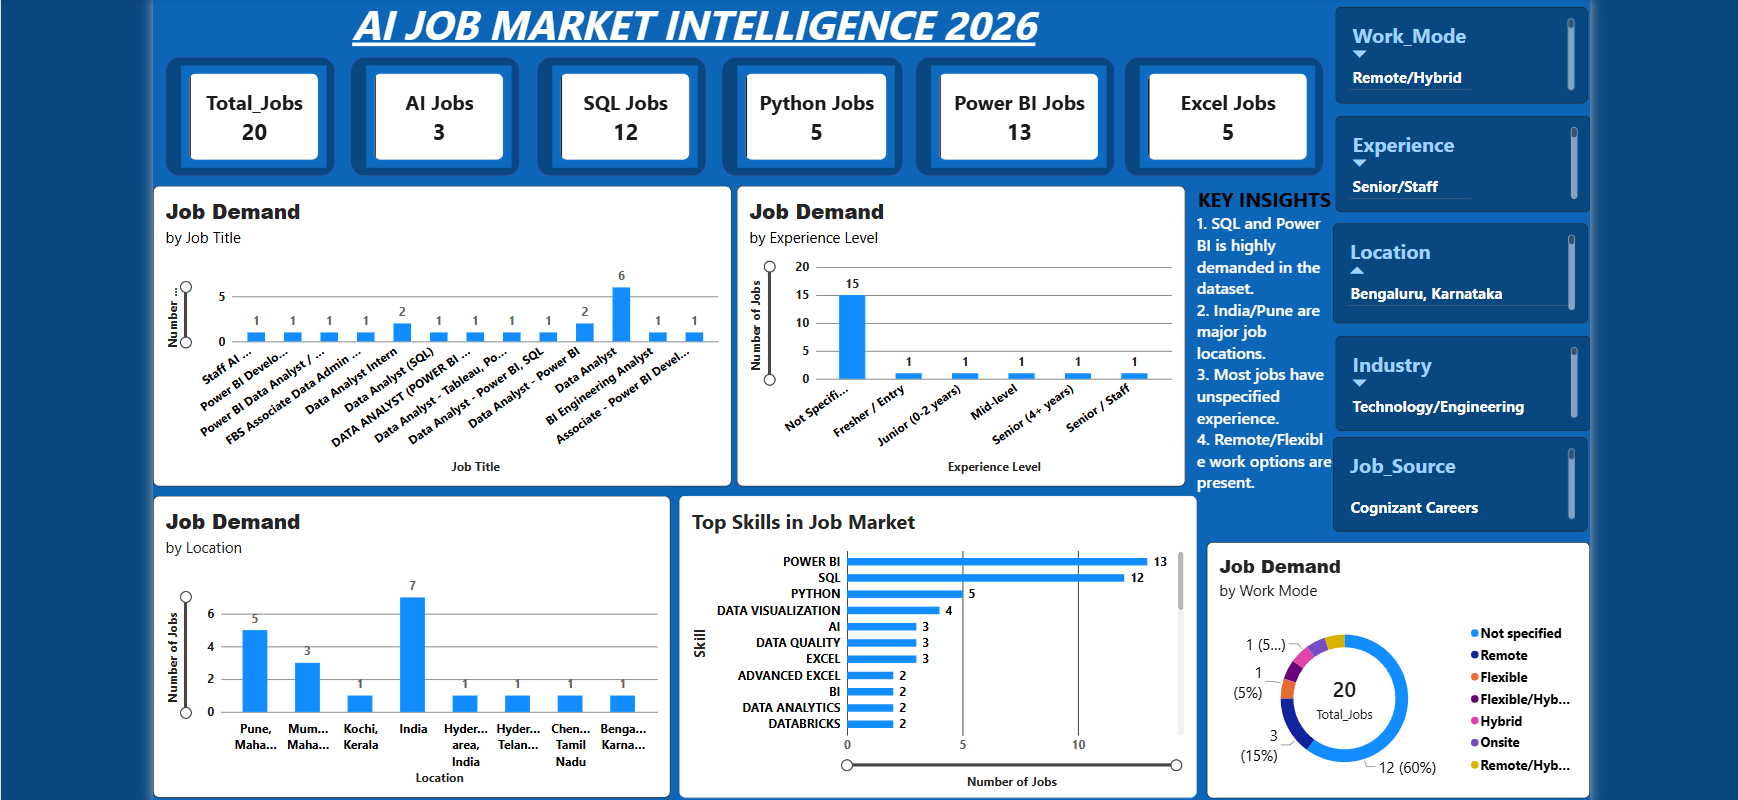

What the dashboard file says about the page in this screenshot:
{"tool":"powerbi","page":{"name":"Page 1","canvas":[1920,1080],"ordinal":0},"visuals":[{"type":"cardVisual","fields":{"Data":["ai_job_market3 mysql_import.Python Jobs"]},"box":[760.1,79.6,242.5,159.3],"z":0},{"type":"columnChart","title":"Job Demand","fields":{"Category":["ai_job_market3 mysql_import.Job_Title"],"Y":["ai_job_market3 mysql_import.Total_Jobs"]},"box":[0,251.5,772.7,401.7],"z":1000},{"type":"columnChart","title":"Job Demand","fields":{"Category":["ai_job_market3 mysql_import.Location"],"Y":["ai_job_market3 mysql_import.Total_Jobs"]},"box":[0,678.6,691.3,390],"z":2000},{"type":"donutChart","title":"Job Demand","fields":{"Category":["ai_job_market3 mysql_import.Work_Mode"],"Y":["ai_job_market3 mysql_import.Total_Jobs"]},"box":[702.1,680.4,512.1,389.1],"z":3000},{"type":"cardVisual","fields":{"Data":["ai_job_market3 mysql_import.SQL Jobs"]},"box":[512.1,79.6,226,159],"z":4000},{"type":"cardVisual","fields":{"Data":["ai_job_market3 mysql_import.AI Jobs"]},"box":[264.2,79.6,226,159],"z":5000},{"type":"cardVisual","fields":{"Data":["ai_job_market3 mysql_import.Total_Jobs1"]},"box":[16.3,79.6,226.2,159.3],"z":6000},{"type":"columnChart","title":"Job Demand","fields":{"Category":["ai_job_market3 mysql_import.Experience_Level"],"Y":["ai_job_market3 mysql_import.Total_Jobs"]},"box":[780,251.5,599,401.7],"z":7000},{"type":"cardVisual","fields":{"Data":["ai_job_market3 mysql_import.Power BI Jobs"]},"box":[1018.8,79.6,266,159.3],"z":8000},{"type":"tableEx","fields":{"Values":["ai_job_market3 mysql_import.Work_Mode"]},"box":[1576.2,27.1,343.8,132.1],"z":9000},{"type":"tableEx","fields":{"Values":["ai_job_market3 mysql_import.Location"]},"box":[1576.2,358.3,340.2,137.5],"z":10000},{"type":"tableEx","fields":{"Values":["ai_job_market3 mysql_import.Experience"]},"box":[1576.2,190,340.2,146.6],"z":11000},{"type":"tableEx","fields":{"Values":["ai_job_market3 mysql_import.Industry"]},"box":[1576.2,515.8,340.2,137.5],"z":12000},{"type":"textbox","box":[29,0,1388,79.6],"z":13000},{"type":"clusteredBarChart","title":"Top Skills in Job Market","fields":{"Category":["ai_job_market3 mysql_import.Skill"],"Y":["ai_job_market3 mysql_import.Total_Jobs"]},"box":[1228.8,678.6,691,390],"z":13001},{"type":"cardVisual","fields":{"Data":["ai_job_market3 mysql_import.Excel Jobs"]},"box":[1297.5,79.6,266,159.3],"z":13002},{"type":"textbox","box":[1393.4,264.2,181,389.1],"z":13003}]}

Visuals, with their boxes on the page's 1920x1080 design canvas (x1, y1, x2, y2). These are canvas units, not pixel positions in the 1738x800 screenshot, which may show the page scaled, cropped or inside an application window:
cardVisual - ai_job_market3 mysql_import.Python Jobs: l=760, t=80, r=1003, b=239
"Job Demand" columnChart: l=0, t=252, r=773, b=653
"Job Demand" columnChart: l=0, t=679, r=691, b=1069
"Job Demand" donutChart: l=702, t=680, r=1214, b=1070
cardVisual - ai_job_market3 mysql_import.SQL Jobs: l=512, t=80, r=738, b=239
cardVisual - ai_job_market3 mysql_import.AI Jobs: l=264, t=80, r=490, b=239
cardVisual - ai_job_market3 mysql_import.Total_Jobs1: l=16, t=80, r=242, b=239
"Job Demand" columnChart: l=780, t=252, r=1379, b=653
cardVisual - ai_job_market3 mysql_import.Power BI Jobs: l=1019, t=80, r=1285, b=239
tableEx - ai_job_market3 mysql_import.Work_Mode: l=1576, t=27, r=1920, b=159
tableEx - ai_job_market3 mysql_import.Location: l=1576, t=358, r=1916, b=496
tableEx - ai_job_market3 mysql_import.Experience: l=1576, t=190, r=1916, b=337
tableEx - ai_job_market3 mysql_import.Industry: l=1576, t=516, r=1916, b=653
textbox: l=29, t=0, r=1417, b=80
"Top Skills in Job Market" clusteredBarChart: l=1229, t=679, r=1920, b=1069
cardVisual - ai_job_market3 mysql_import.Excel Jobs: l=1298, t=80, r=1564, b=239
textbox: l=1393, t=264, r=1574, b=653
